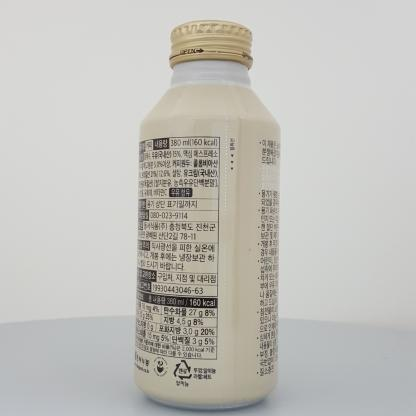-------TOP-----: (134, 20, 280, 410)
